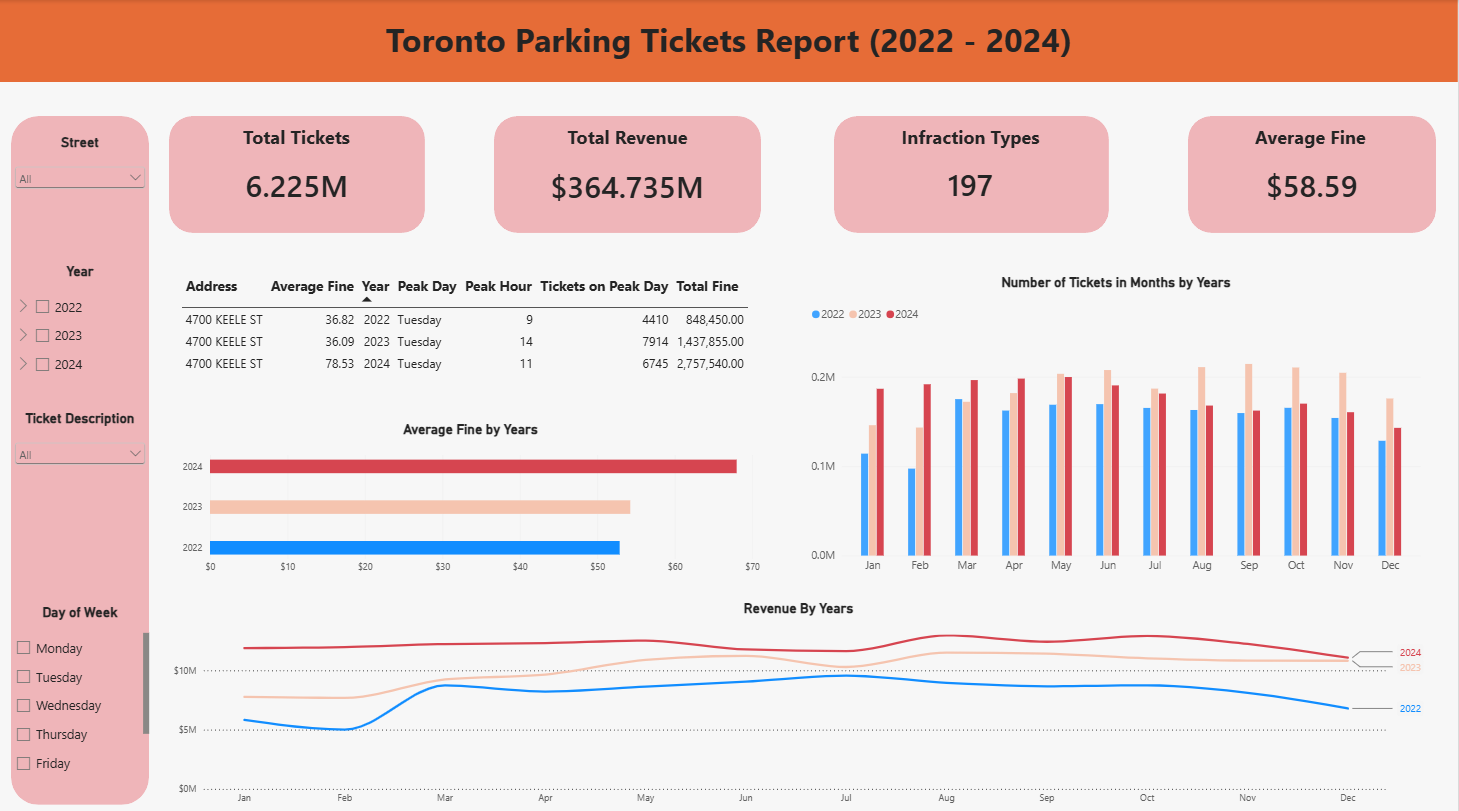

The page's visual inventory and layout, read from the dashboard file:
{"tool":"powerbi","page":{"name":"Report","canvas":[1920,1080],"ordinal":0},"visuals":[{"type":"shape","box":[0,0,1920.3,108],"z":0},{"type":"textbox","box":[0,22.4,1920.3,63.2],"z":1000},{"type":"shape","box":[222.6,152.8,337.2,154.1],"z":2000},{"type":"shape","box":[650.6,152.8,351.7,154.1],"z":3000},{"type":"shape","box":[1098.4,152.8,362.2,154.1],"z":4000},{"type":"shape","box":[1564.7,152.8,326.6,154.1],"z":5000},{"type":"textbox","box":[255.5,163.3,270,40.8],"z":6000},{"type":"textbox","box":[691.5,163.3,270,40.8],"z":7000},{"type":"textbox","box":[1139.3,163.3,277.9,51.4],"z":8000},{"type":"textbox","box":[1564.7,163.3,322.7,40.8],"z":9000},{"type":"cardVisual","fields":{"Data":["Sum(parking v_daily_summary.n_tickets)"]},"box":[222.6,175.2,337.2,134.3],"z":10000},{"type":"cardVisual","fields":{"Data":["Sum(parking v_daily_summary.Revenue)"]},"box":[650.6,176.5,351.7,134.3],"z":11000},{"type":"cardVisual","fields":{"Data":["parking v_daily_summary.Unique Type of Tickets"]},"box":[1097.1,176.5,362.2,130.4],"z":12000},{"type":"lineChart","title":"Revenue By Years","fields":{"Category":["parking dim_date.month_name"],"Series":["parking dim_date.yr"],"Y":["Sum(parking v_daily_summary.Revenue)"]},"box":[212,775.8,1679.3,304.2],"z":13000},{"type":"cardVisual","fields":{"Data":["parking v_daily_summary.Average Fine"]},"box":[1564.7,177.8,326.6,130.4],"z":14000},{"type":"clusteredColumnChart","title":"Number of Tickets in Months by Years","fields":{"Category":["parking dim_date.month_name"],"Series":["parking dim_date.yr"],"Y":["Sum(parking v_daily_summary.Number of Tickets)"]},"box":[1052.3,346.4,835,429.4],"z":15000},{"type":"shape","box":[14.5,152.8,181.8,907.5],"z":16000},{"type":"slicer","title":"Street","fields":{"Values":["parking v_daily_summary.Street"]},"box":[14.5,176.5,181.8,288.4],"z":17000},{"type":"slicer","title":"Year","fields":{"Values":["parking dim_date.yr","parking dim_date.month_num"]},"box":[14.5,346.4,181.8,166],"z":18000},{"type":"slicer","title":"Ticket Description","fields":{"Values":["parking dim_infraction.infraction_description"]},"box":[14.5,540,181.8,194.9],"z":19000},{"type":"slicer","title":"Day of Week","fields":{"Values":["parking dim_date.dow_name"]},"box":[14.5,795.5,181.8,226.5],"z":20000},{"type":"tableEx","fields":{"Values":["parking v_top_address_by_year.Address","parking v_top_address_by_year.Average Fine","parking v_top_address_by_year.Year","parking v_top_address_by_year.Peak Day","parking v_top_address_by_year.Peak Hour","parking v_top_address_by_year.Total Fine","parking v_top_address_by_year.Number Of Tickets"]},"box":[222.9,345.7,780,165.7],"z":21000},{"type":"barChart","title":"Average Fine by Years","fields":{"Category":["parking v_dim_year.yr"],"Y":["parking v_daily_summary.Average Fine"]},"box":[222.9,511.4,794.3,264.3],"z":22000}]}

Visuals, with their boxes in screenshot pixels (x1, y1, x2, y2), scaled from the page's 1920x1080 canvas onto the 1459x811 screenshot:
shape: 0:0:1458:81
textbox: 0:17:1458:64
shape: 169:115:425:230
shape: 494:115:762:230
shape: 835:115:1110:230
shape: 1189:115:1437:230
textbox: 194:123:399:153
textbox: 525:123:731:153
textbox: 866:123:1077:161
textbox: 1189:123:1434:153
cardVisual - Sum(parking v_daily_summary.n_tickets): 169:132:425:232
cardVisual - Sum(parking v_daily_summary.Revenue): 494:133:762:233
cardVisual - parking v_daily_summary.Unique Type of Tickets: 834:133:1109:230
"Revenue By Years" lineChart: 161:583:1437:810
cardVisual - parking v_daily_summary.Average Fine: 1189:134:1437:231
"Number of Tickets in Months by Years" clusteredColumnChart: 800:260:1434:583
shape: 11:115:149:796
"Street" slicer: 11:133:149:349
"Year" slicer: 11:260:149:385
"Ticket Description" slicer: 11:406:149:552
"Day of Week" slicer: 11:597:149:767
tableEx - parking v_top_address_by_year.Address x parking v_top_address_by_year.Average Fine: 169:260:762:384
"Average Fine by Years" barChart: 169:384:773:582
